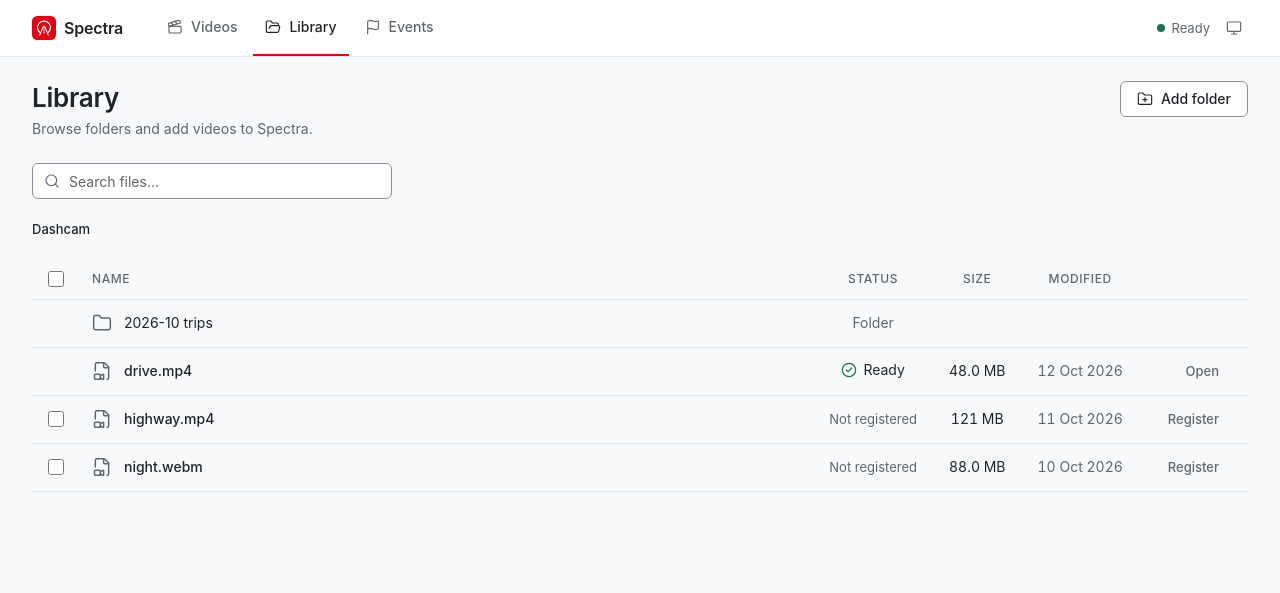
library browsing › stops registering and adds no toast of its own when the server goes away
Expected: the table named "Contents of Dashcam" is shown, [32,259,1248,492]
Click the checkbox named "Select all unregistered videos" next to "Name" at x=56, y=279, box [48,271,64,287]
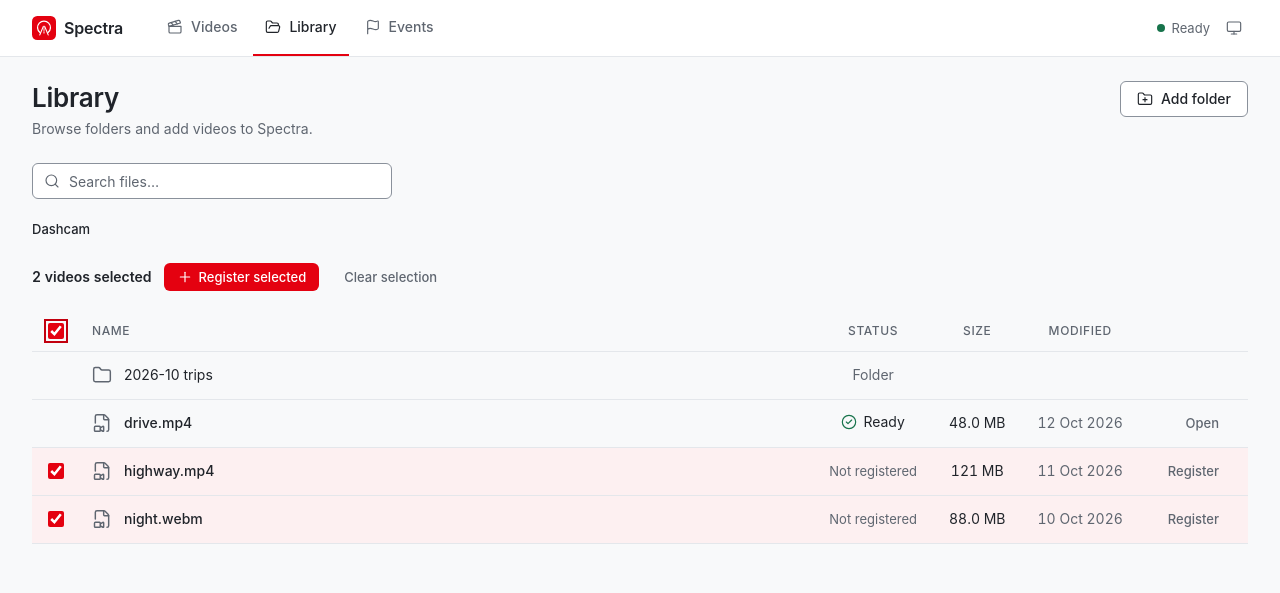
Click the button "Register selected" at x=241, y=277, box [164,263,319,291]
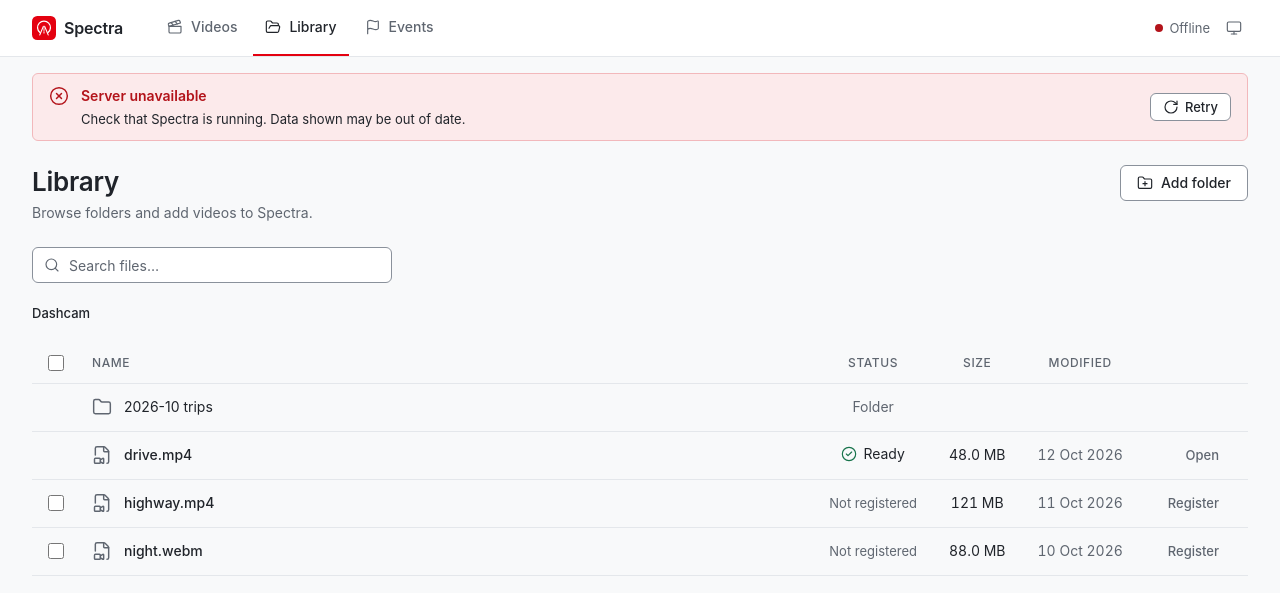
Now the text "Server unavailable" is shown, box [81,87,207,104]
